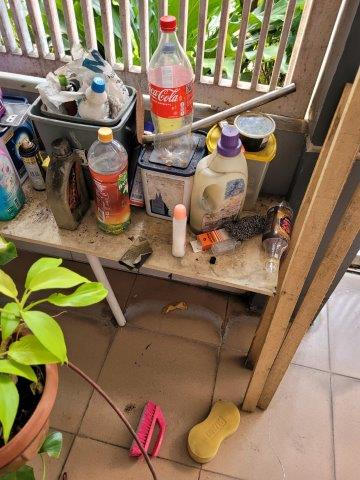botolplastik: (150, 14, 194, 158), (89, 129, 132, 235)
